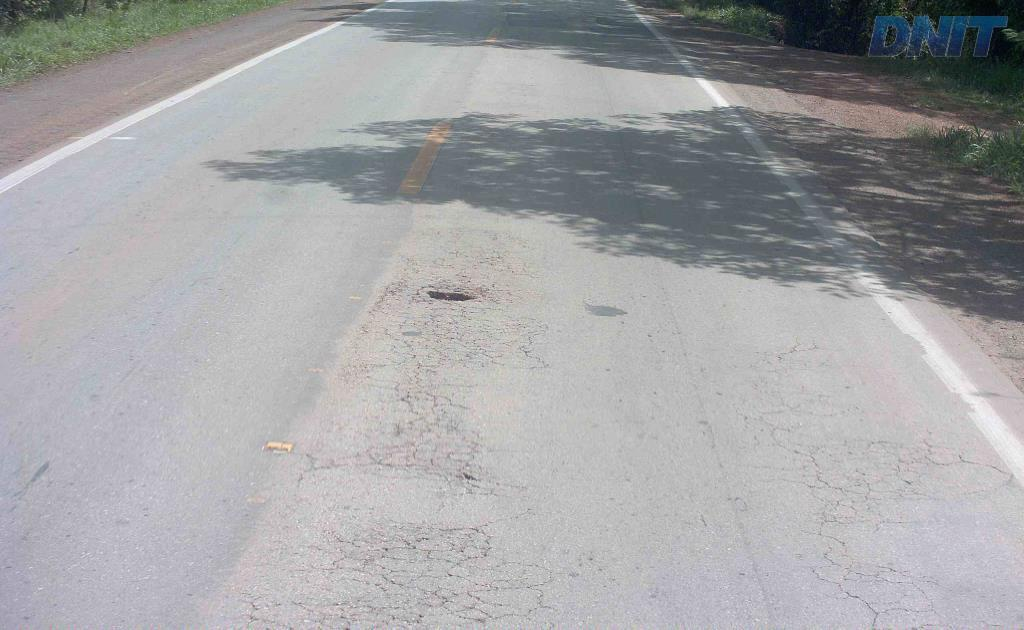crack: (332, 546, 518, 622), (398, 307, 475, 375), (418, 264, 513, 304), (425, 523, 494, 576), (363, 523, 443, 562), (331, 595, 407, 616), (442, 458, 481, 494)
pothole: (419, 283, 482, 302)
